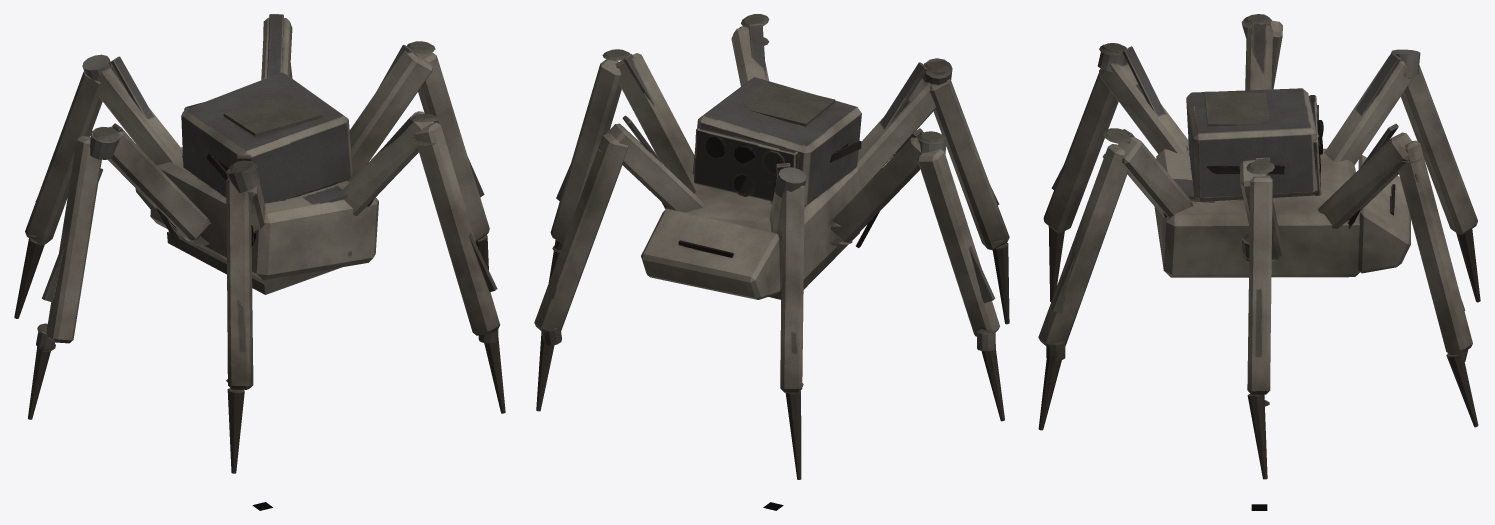
Rendered from ord_scaler_wreck.fbx.
The picture shows the model from 3 angles, left to right: view 1: azimuth 30°, elevation 25°; view 2: azimuth 150°, elevation 25°; view 3: azimuth 270°, elevation 25°; orthographic projection.
Parts seen in each view (by area): view 1: torso_bar, base_bar, shinBR_bar, shinML_bar, shinBL_bar, shinFL_bar, thighML_bar, thighMR_bar, thighFL_bar, shinMR_bar, thighBR_bar, thighFR_bar (+1 smaller); view 2: torso_bar, base_bar, shinFR_bar, shinML_bar, shinBL_bar, shinFL_bar, thighMR_bar, thighBL_bar, shinMR_bar, thighML_bar, thighFR_bar, thighBR_bar (+1 smaller); view 3: base_bar, torso_bar, shinBR_bar, shinFR_bar, shinMR_bar, shinFL_bar, shinBL_bar, thighBL_bar, thighFL_bar, thighFR_bar, thighBR_bar, thighML_bar (+2 smaller).
Part boxes in pixels (left/top/right/bottom): torso_bar: left=181, top=72, right=352, bottom=203; base_bar: left=135, top=147, right=378, bottom=294; shinBR_bar: left=414, top=122, right=505, bottom=413; shinML_bar: left=28, top=136, right=102, bottom=419; shinBL_bar: left=226, top=178, right=253, bottom=473; shinFL_bar: left=14, top=71, right=102, bottom=318; thighML_bar: left=90, top=123, right=210, bottom=245; thighMR_bar: left=347, top=41, right=435, bottom=181; thighFL_bar: left=82, top=54, right=182, bottom=165; shinMR_bar: left=418, top=52, right=489, bottom=270; thighBR_bar: left=339, top=111, right=438, bottom=215; thighFR_bar: left=261, top=14, right=292, bottom=79; torso_bar: left=692, top=77, right=861, bottom=206; base_bar: left=641, top=168, right=861, bottom=299; shinFR_bar: left=534, top=133, right=628, bottom=411; shinML_bar: left=917, top=149, right=1004, bottom=421; shinBL_bar: left=930, top=79, right=1009, bottom=324; shinFL_bar: left=780, top=185, right=804, bottom=479; thighMR_bar: left=602, top=49, right=701, bottom=193; thighBL_bar: left=856, top=58, right=952, bottom=188; shinMR_bar: left=548, top=59, right=621, bottom=282; thighML_bar: left=828, top=128, right=946, bottom=247; thighFR_bar: left=597, top=115, right=705, bottom=212; thighBR_bar: left=731, top=14, right=769, bottom=86; base_bar: left=1154, top=148, right=1410, bottom=277; torso_bar: left=1186, top=88, right=1323, bottom=201; shinBR_bar: left=1038, top=144, right=1128, bottom=430; shinFR_bar: left=1398, top=140, right=1478, bottom=427; shinMR_bar: left=1247, top=175, right=1272, bottom=479; shinFL_bar: left=1401, top=65, right=1480, bottom=302; shinBL_bar: left=1043, top=73, right=1118, bottom=301; thighBL_bar: left=1097, top=43, right=1188, bottom=153; thighFL_bar: left=1324, top=49, right=1420, bottom=164; thighFR_bar: left=1318, top=123, right=1421, bottom=228; thighBR_bar: left=1102, top=128, right=1193, bottom=217; thighML_bar: left=1241, top=14, right=1273, bottom=90.
Bounding box in the file's own units: 685 × 597 × 568.
Materials: 2 (2 with a texture image).
